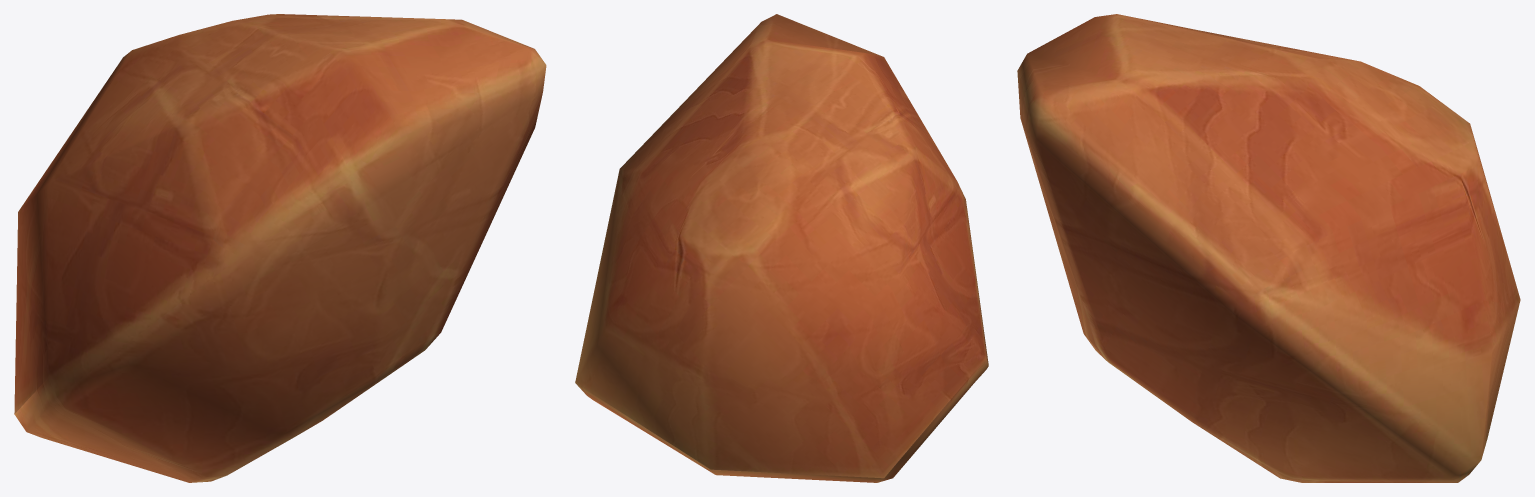
Rendered from DE_Rock_18.fbx.
The picture shows the model from 3 angles, left to right: view 1: azimuth 30°, elevation 25°; view 2: azimuth 150°, elevation 25°; view 3: azimuth 270°, elevation 25°; orthographic projection. The views are drawn at different scales.
Visible parts, largest first — view 1: DE_Rock_18; view 2: DE_Rock_18; view 3: DE_Rock_18.
Boxes of the visible parts, x1=… form: DE_Rock_18: x1=14, y1=14, x2=546, y2=482; DE_Rock_18: x1=575, y1=14, x2=988, y2=482; DE_Rock_18: x1=1017, y1=14, x2=1520, y2=482.
Size of the model in its own units: 3.26 by 3.01 by 2.95.
